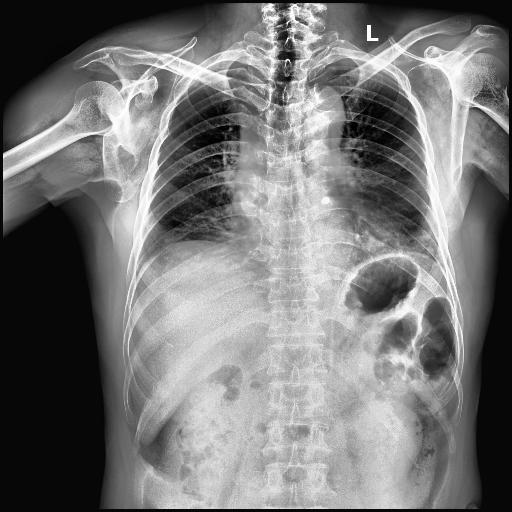0- Aortic enlargement: (302, 84, 346, 144), (300, 85, 348, 137), (290, 86, 344, 130)
3- Cardiomegaly: (234, 212, 408, 272), (241, 208, 402, 264), (232, 206, 412, 250)
7- Lung Opacity: (344, 174, 440, 254)
